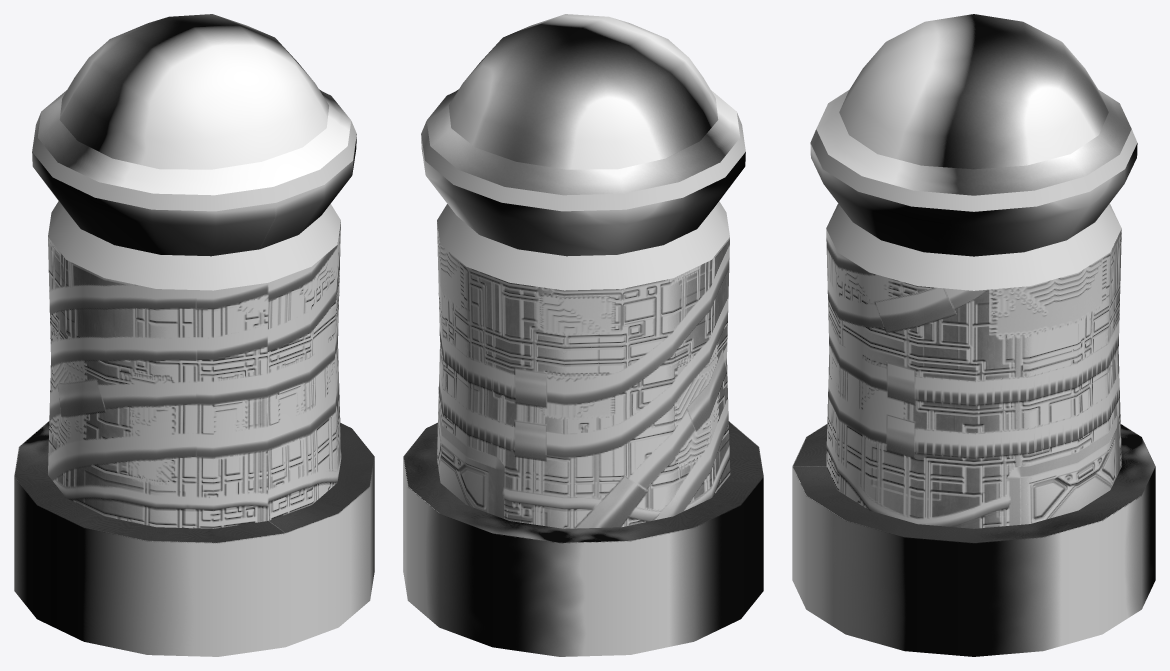
File: fuel2NEW.fbx
3 renders of one model, left to right at view 1: azimuth 30°, elevation 25°; view 2: azimuth 150°, elevation 25°; view 3: azimuth 270°, elevation 25°, orthographic.
Visible parts, largest first — view 1: fuel2NEW, fuel2NeonNEW; view 2: fuel2NEW, fuel2NeonNEW; view 3: fuel2NEW, fuel2NeonNEW.
Part boxes in pixels (left/top/right/bottom): fuel2NEW: left=14, top=14, right=374, bottom=656; fuel2NeonNEW: left=32, top=113, right=356, bottom=290; fuel2NEW: left=403, top=14, right=763, bottom=656; fuel2NeonNEW: left=421, top=113, right=745, bottom=290; fuel2NEW: left=792, top=14, right=1155, bottom=656; fuel2NeonNEW: left=810, top=129, right=1137, bottom=290.
Bounding box in the file's own units: 0.846 × 0.846 × 1.42.
